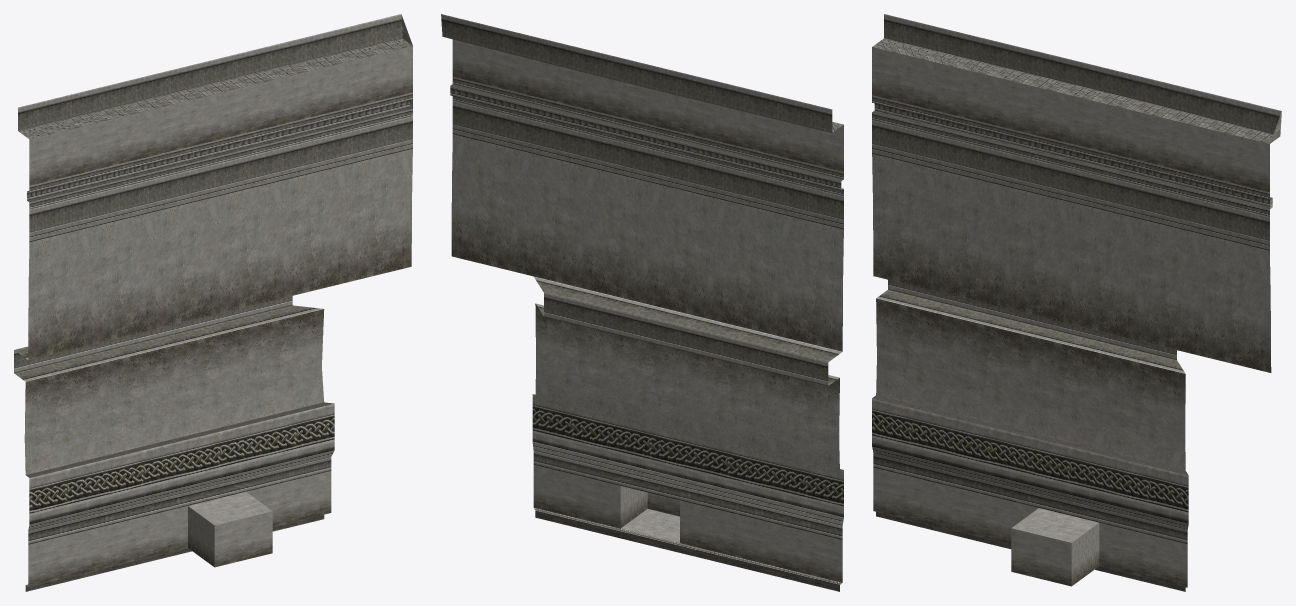
The model's file is DWARF_PALACE_WATER_ROOM_WALL01A02.fbx.
3 renders of one model, left to right at view 1: azimuth 30°, elevation 25°; view 2: azimuth 150°, elevation 25°; view 3: azimuth 330°, elevation 25°, orthographic. The views are drawn at different scales.
Visible parts, largest first — view 1: DWARF_PALACE_WATER_ROOM_WALL01A02; view 2: DWARF_PALACE_WATER_ROOM_WALL01A02; view 3: DWARF_PALACE_WATER_ROOM_WALL01A02.
Boxes of the visible parts, box(x1,y1,x2,y2) form: DWARF_PALACE_WATER_ROOM_WALL01A02: box(14, 14, 412, 591); DWARF_PALACE_WATER_ROOM_WALL01A02: box(441, 14, 843, 591); DWARF_PALACE_WATER_ROOM_WALL01A02: box(872, 14, 1281, 591).
Size of the model in its own units: 171850 by 205000 by 31748.
Materials: 10 (10 with a texture image).
